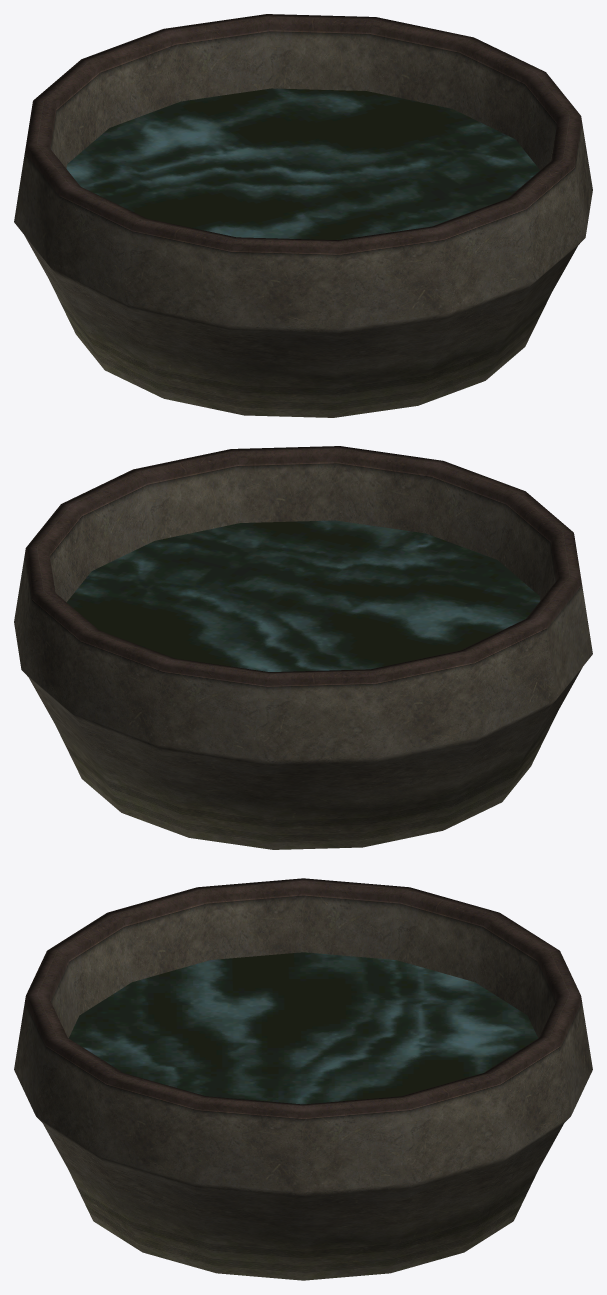
The picture shows the model from 3 angles, top to bottom: view 1: azimuth 30°, elevation 25°; view 2: azimuth 150°, elevation 25°; view 3: azimuth 270°, elevation 25°; orthographic projection.
Parts seen in each view (by area): view 1: polySurface6_polySurface6Shape, pCylinder1_pCylinderShape1; view 2: polySurface6_polySurface6Shape, pCylinder1_pCylinderShape1; view 3: polySurface6_polySurface6Shape, pCylinder1_pCylinderShape1.
Part boxes in pixels (x1,y1,x2,y2): polySurface6_polySurface6Shape: (14, 14, 592, 417); pCylinder1_pCylinderShape1: (66, 88, 539, 239); polySurface6_polySurface6Shape: (14, 446, 592, 849); pCylinder1_pCylinderShape1: (67, 520, 540, 671); polySurface6_polySurface6Shape: (14, 878, 592, 1280); pCylinder1_pCylinderShape1: (68, 952, 538, 1104).
Size of the model in its own units: 1.4 by 0.5099 by 1.4.
Materials: 2 (2 with a texture image).
